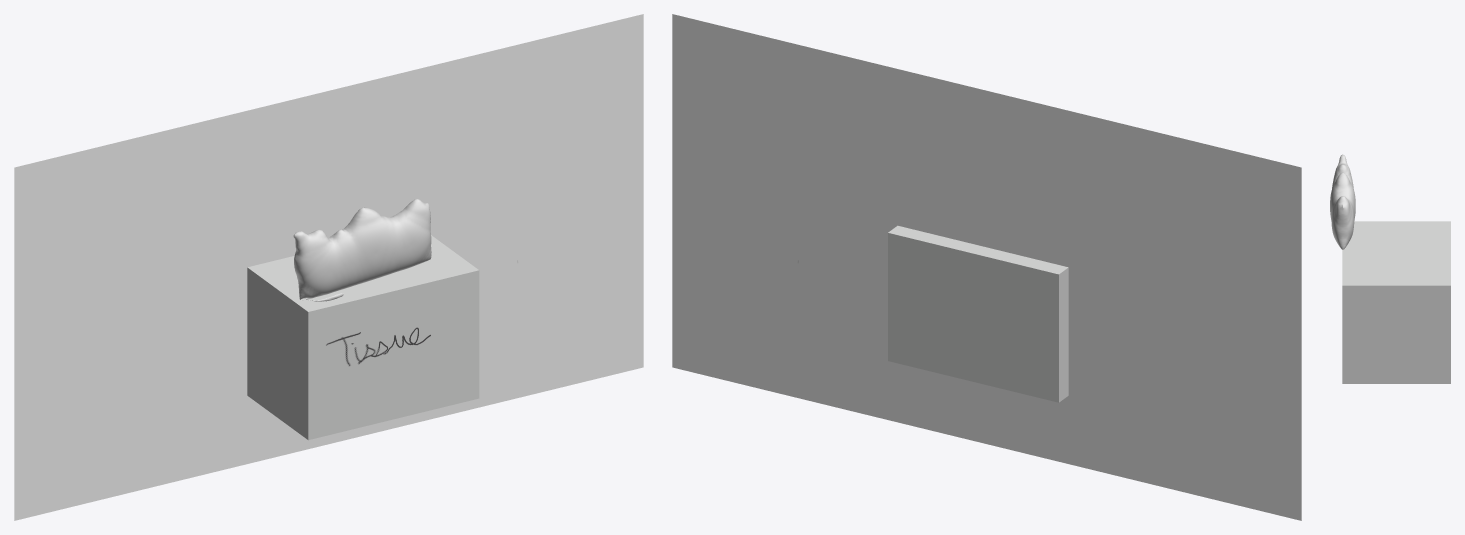
The model's file is TISS.fbx.
3 views of the same model, side by side, from view 1: azimuth 30°, elevation 25°; view 2: azimuth 150°, elevation 25°; view 3: azimuth 270°, elevation 25° (orthographic). The views are drawn at different scales.
Visible parts, largest first — view 1: root (×3); view 2: root (×2); view 3: root (×2).
Boxes of the visible parts, x1,y1,x2,y2 form: root (×3): (14, 14, 643, 520); root (×2): (672, 14, 1301, 520); root (×2): (1330, 154, 1450, 383).
Size of the model in its own units: 2.83 by 1.52 by 0.6141.
Materials: 3 (2 with a texture image).
